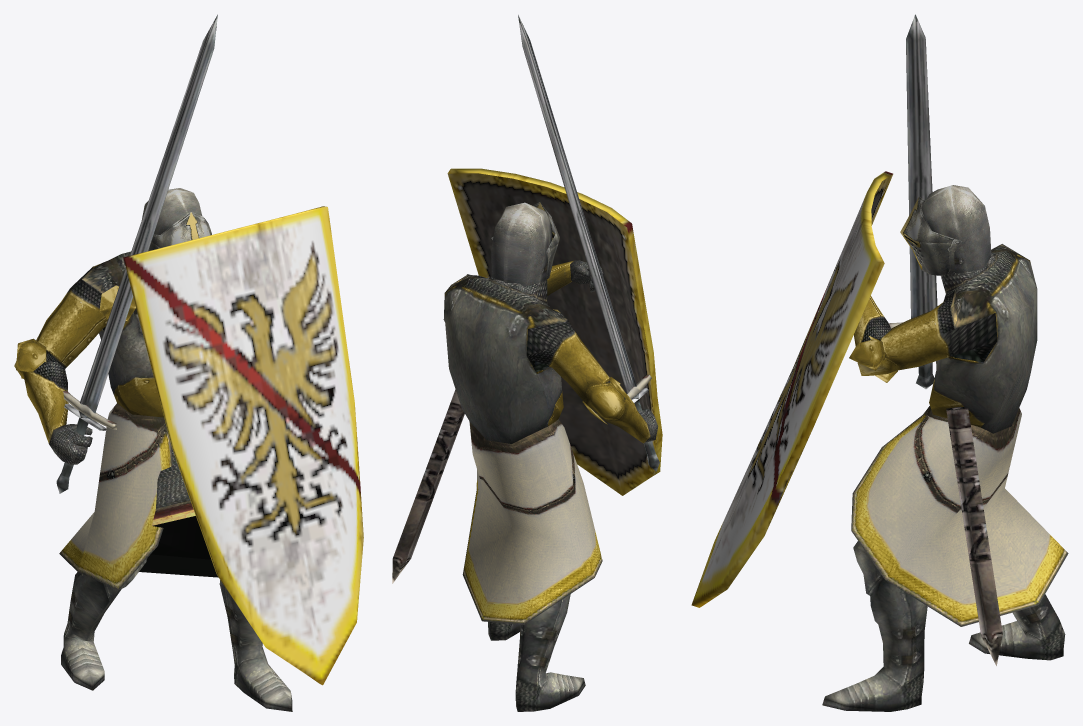
Rendered from Block.fbx.
3 renders of one model, left to right at view 1: azimuth 30°, elevation 25°; view 2: azimuth 150°, elevation 25°; view 3: azimuth 270°, elevation 25°, orthographic. The views are drawn at different scales.
Visible parts, largest first — view 1: knight; view 2: knight; view 3: knight.
Boxes of the visible parts, x1=… form: knight: x1=14, y1=14, x2=363, y2=711; knight: x1=392, y1=15, x2=662, y2=711; knight: x1=691, y1=14, x2=1068, y2=711.
Size of the model in its own units: 0.9312 by 2.34 by 1.18.
